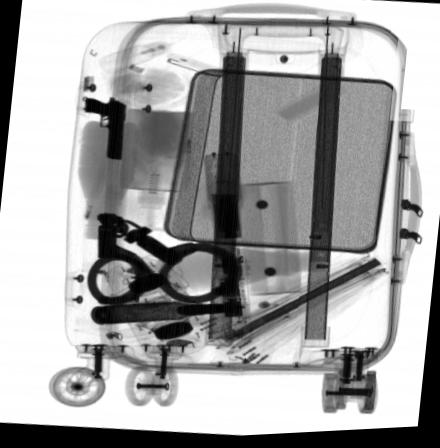Baton: (201, 154, 256, 347)
Bullet: (88, 303, 246, 326)
Gun: (81, 96, 126, 163)
HandCuffs: (88, 212, 241, 308)
